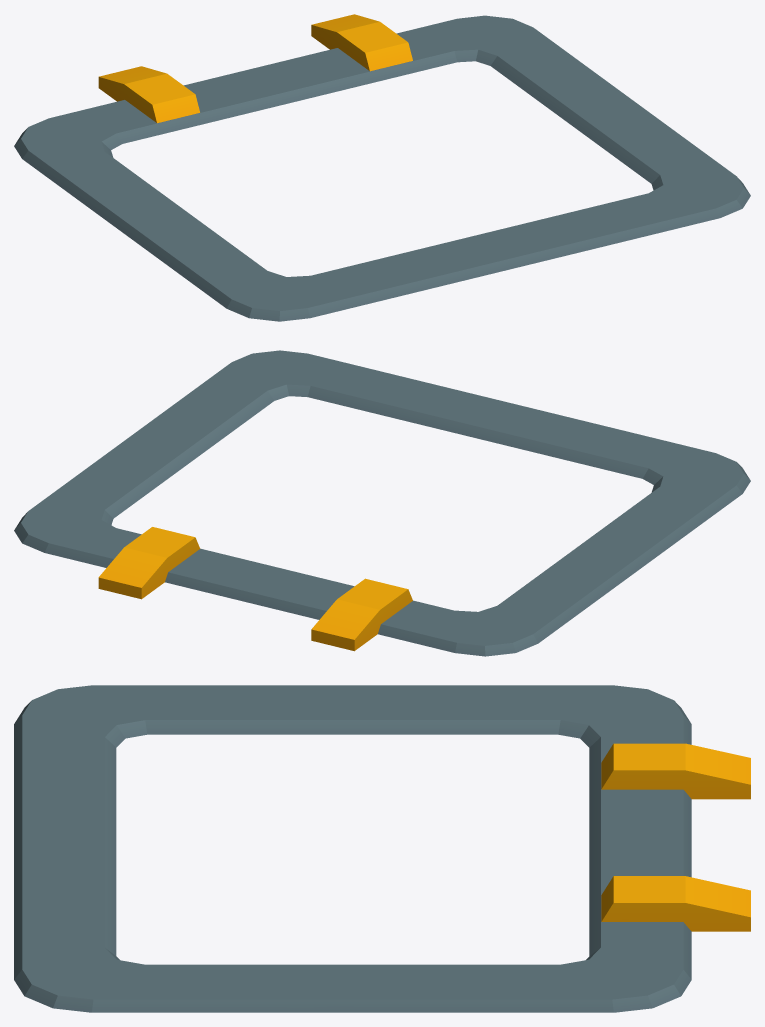
File: Hatch_004_door_001.fbx
3 renders of one model, top to bottom at view 1: azimuth 30°, elevation 25°; view 2: azimuth 150°, elevation 25°; view 3: azimuth 270°, elevation 25°, orthographic. The views are drawn at different scales.
Visible parts, largest first — view 1: Hatch_004_door_001; view 2: Hatch_004_door_001; view 3: Hatch_004_door_001.
Part boxes in pixels (<box>): Hatch_004_door_001: <box>14,14,750,321</box>; Hatch_004_door_001: <box>14,350,750,656</box>; Hatch_004_door_001: <box>14,685,750,1012</box>.
Size of the model in its own units: 92 by 89.16 by 3.85.
